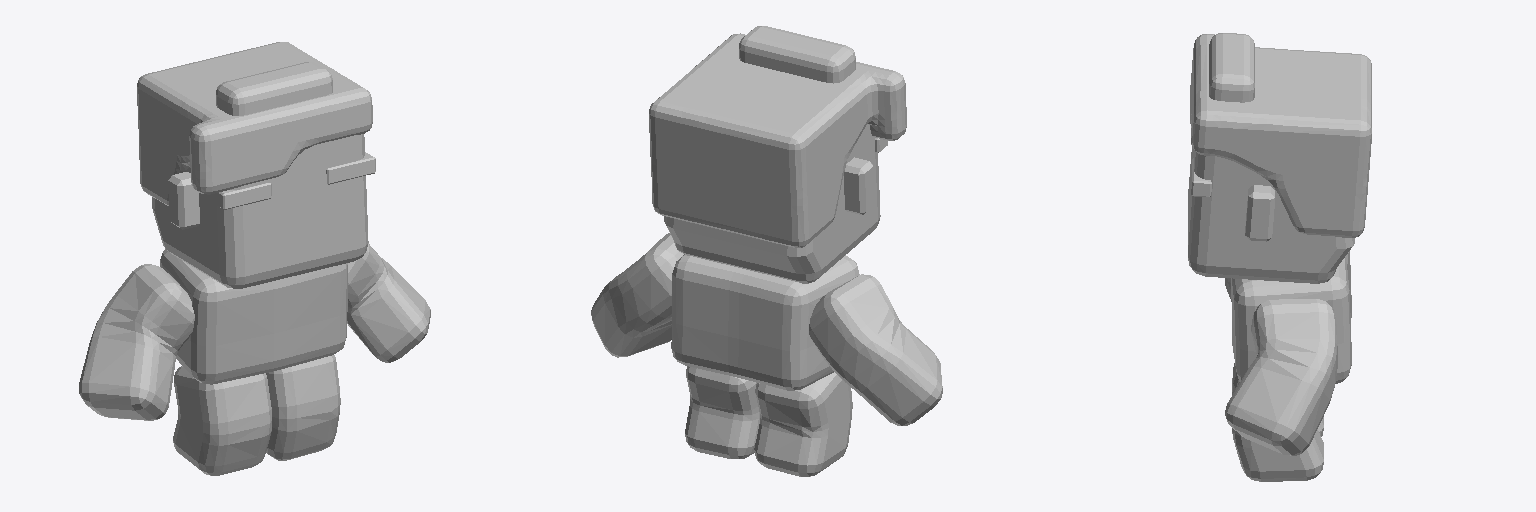
File: 100_Character_Cube.obj
3 views of the same model, side by side, from view 1: azimuth 30°, elevation 25°; view 2: azimuth 150°, elevation 25°; view 3: azimuth 270°, elevation 25° (orthographic).
Visible parts, largest first — view 1: Character_Cube.000; view 2: Character_Cube.000; view 3: Character_Cube.000.
Boxes of the visible parts, <box> form: Character_Cube.000: <box>79,42,430,475</box>; Character_Cube.000: <box>591,26,942,476</box>; Character_Cube.000: <box>1188,33,1371,481</box>.
Bounding box in the file's own units: 2.55 × 2.81 × 1.18.